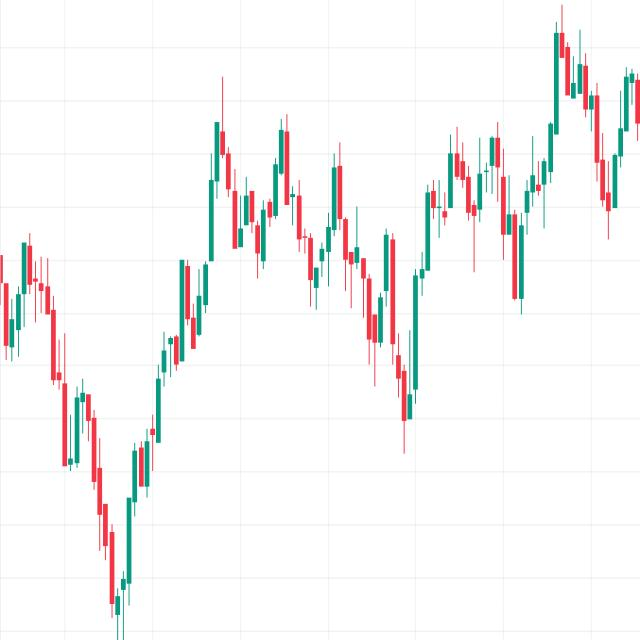Triple-Top: (204, 92, 370, 266)
